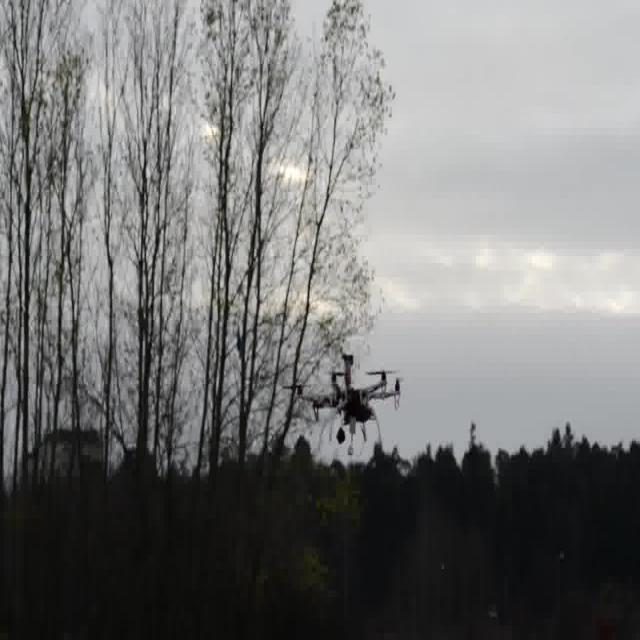drone: (283, 353, 407, 454)
